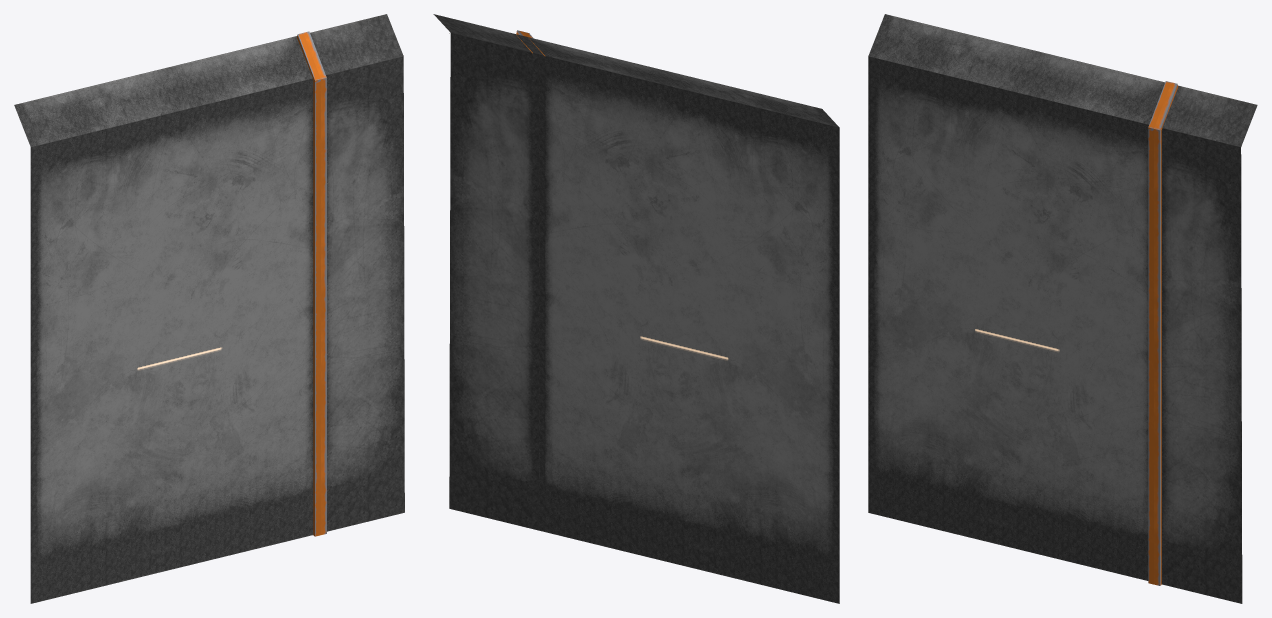
3 renders of one model, left to right at view 1: azimuth 30°, elevation 25°; view 2: azimuth 150°, elevation 25°; view 3: azimuth 330°, elevation 25°, orthographic. The views are drawn at different scales.
Visible parts, largest first — view 1: Object_14.005; view 2: Object_14.005; view 3: Object_14.005.
Part boxes in pixels (x1,y1,x2,y2): Object_14.005: (14, 14, 404, 603); Object_14.005: (433, 14, 839, 603); Object_14.005: (868, 14, 1257, 603).
Size of the model in its own units: 2.82 by 3.52 by 0.2444.
Materials: 2 (2 with a texture image).
